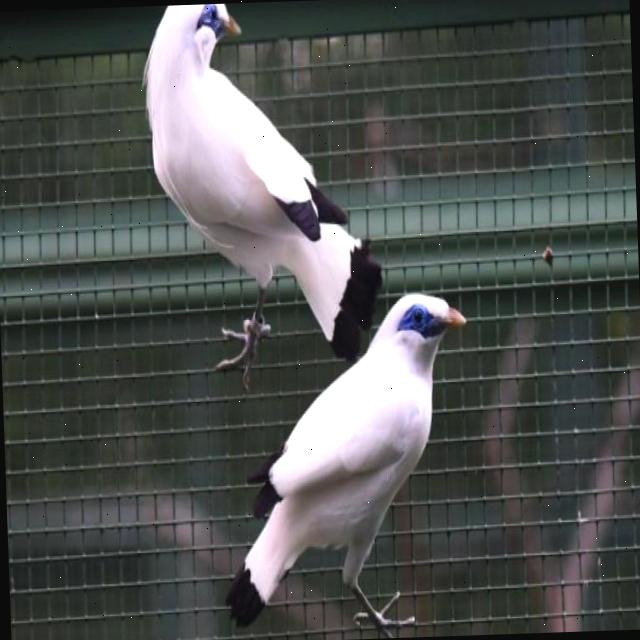Jalak Bali: (115, 0, 383, 382), (212, 280, 490, 640)
